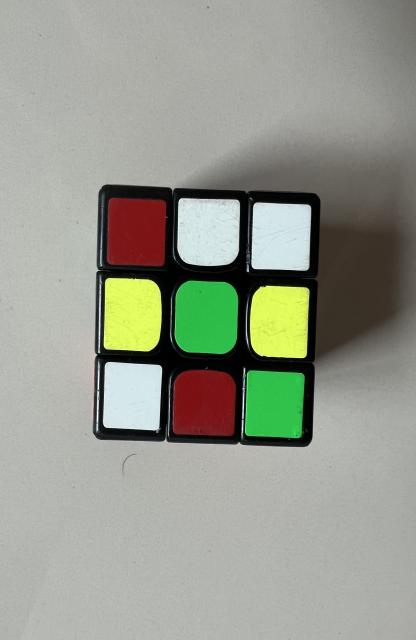Green: (174, 280, 238, 354), (245, 370, 304, 439)
Red: (172, 370, 236, 436), (107, 198, 166, 266)
White: (178, 198, 240, 266), (251, 202, 311, 271), (103, 362, 162, 431)
Yellow: (250, 286, 310, 359), (103, 278, 161, 351)
